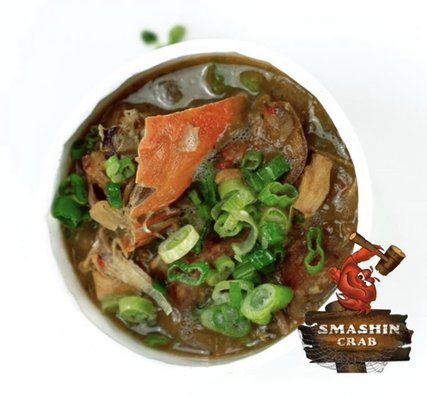sushi: (42, 37, 401, 379)
